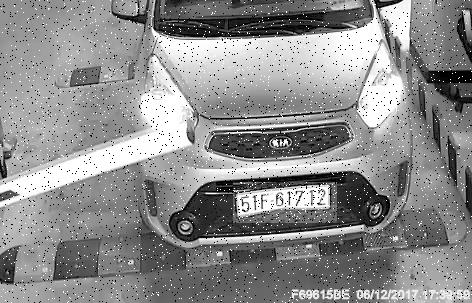License-plate: (234, 184, 338, 226)
